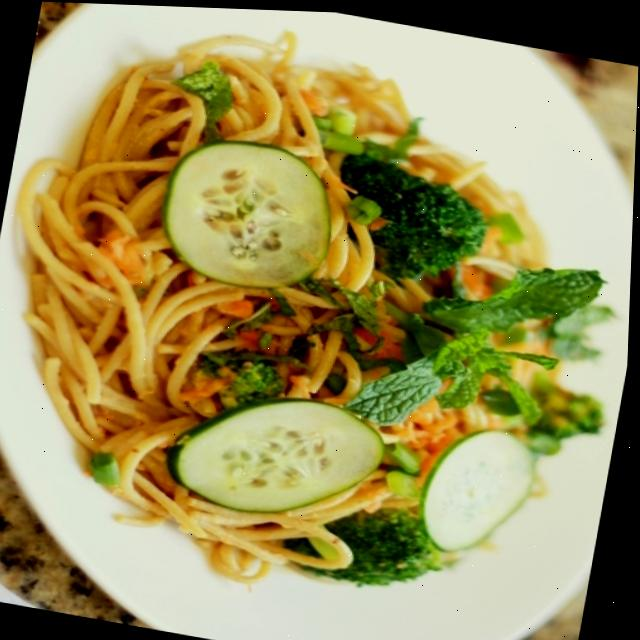面条主食: (0, 27, 639, 629)
